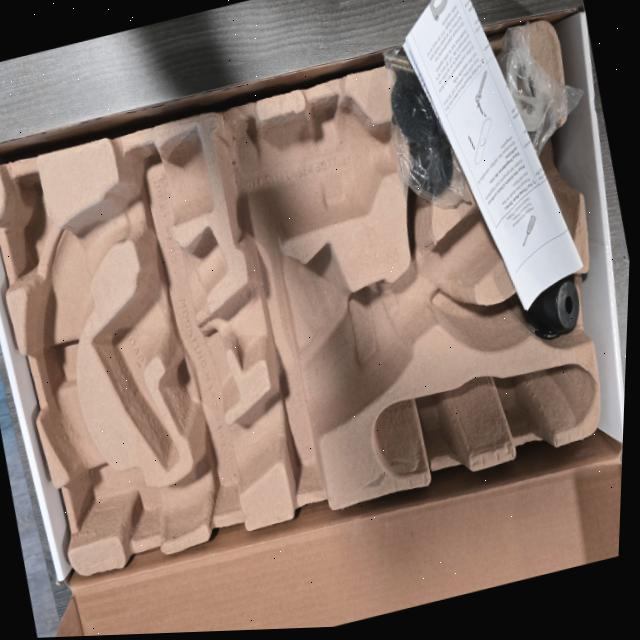1m: (27, 127, 580, 531)
2m: (91, 223, 226, 469)
3m: (211, 91, 409, 244)
4m: (374, 362, 597, 475)
5o: (521, 264, 582, 336)
6o: (471, 26, 585, 167)
7o: (382, 46, 475, 210)
8: (402, 0, 584, 312)
